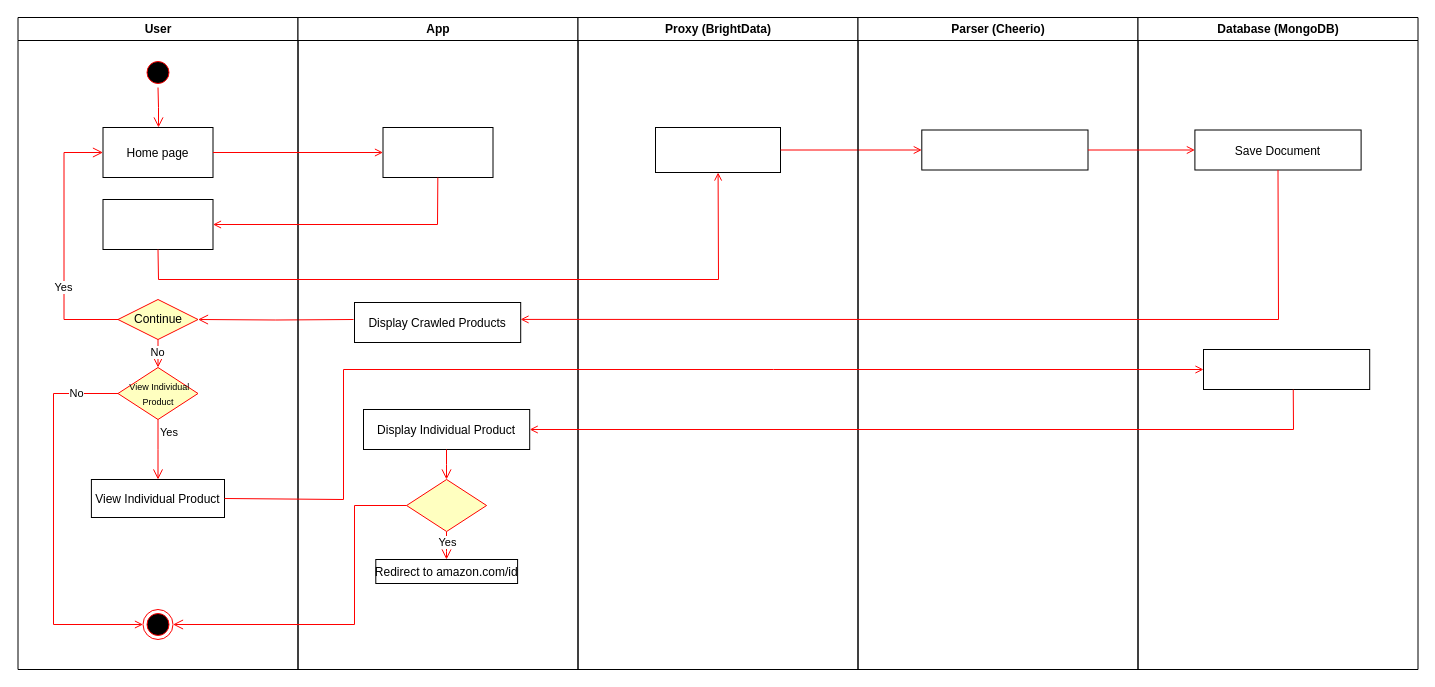
Image size: 1435x687. Some labels were removed from this diagram. The centre of each missing label's shape, as x and y in pixels:
Access Amazon.com: pixel 717 149
Display input field: pixel 437 152
Input product URL: pixel 157 224
Parse HTML and Crawl Data: pixel 1004 149
Product id Query: pixel 1286 369
View Amazon Product Page: pixel 446 505
